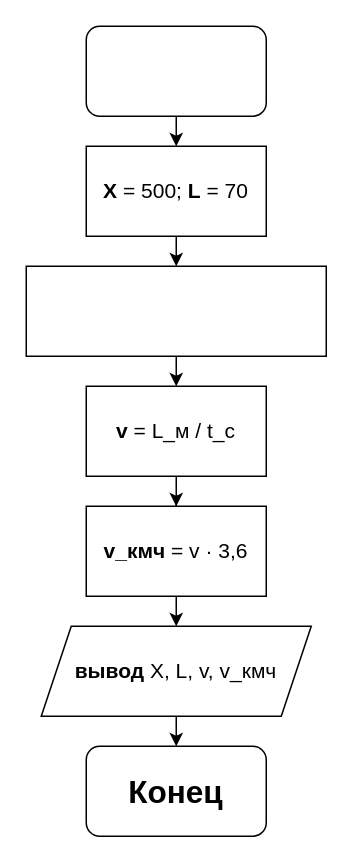
Some shapes in this 353 by 863 pixel diagram are drawn without their labels. Here are the shapes that lost their labels. From the top down, the box of each, then its label:
(85, 25, 266, 116): Начало
(25, 265, 326, 356): L_м = L / 100; t_с = X / 1000
